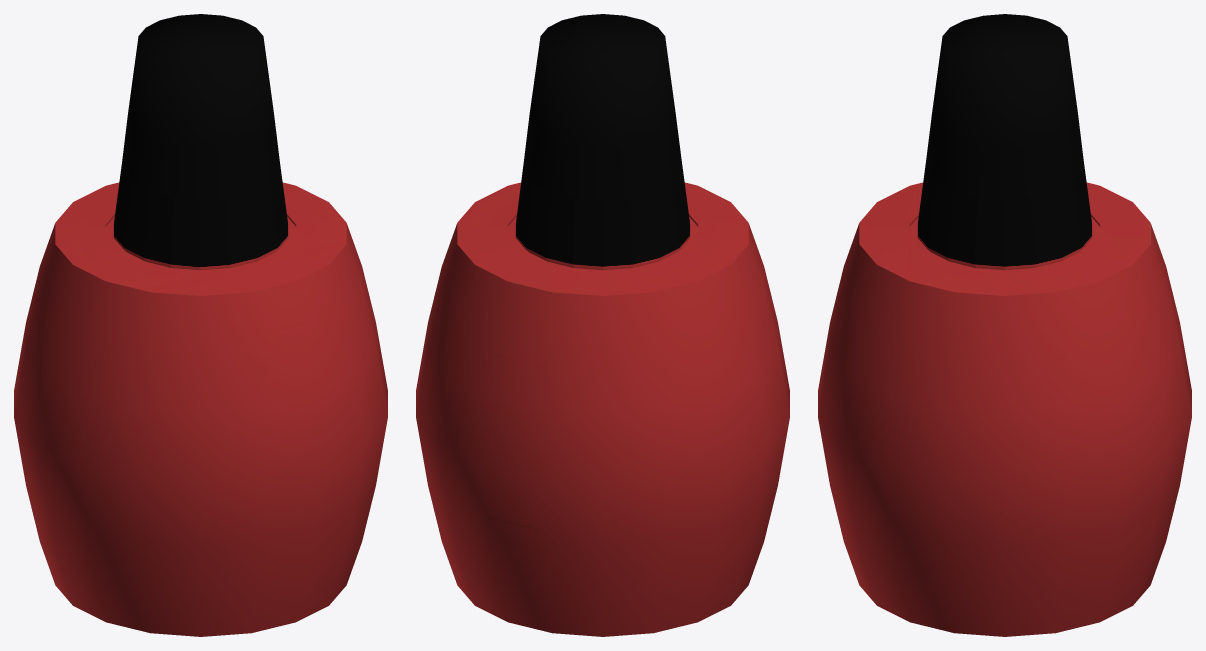
Rendered from NailPolish.FBX.
The picture shows the model from 3 angles, left to right: view 1: azimuth 30°, elevation 25°; view 2: azimuth 150°, elevation 25°; view 3: azimuth 270°, elevation 25°; orthographic projection.
Visible parts, largest first — view 1: Cylinder001; view 2: Cylinder001; view 3: Cylinder001.
Boxes of the visible parts, x1,y1,x2,y2 form: Cylinder001: (14, 14, 387, 636); Cylinder001: (416, 14, 789, 636); Cylinder001: (818, 14, 1191, 636).
Bounding box in the file's own units: 14.83 × 23.08 × 14.6.
